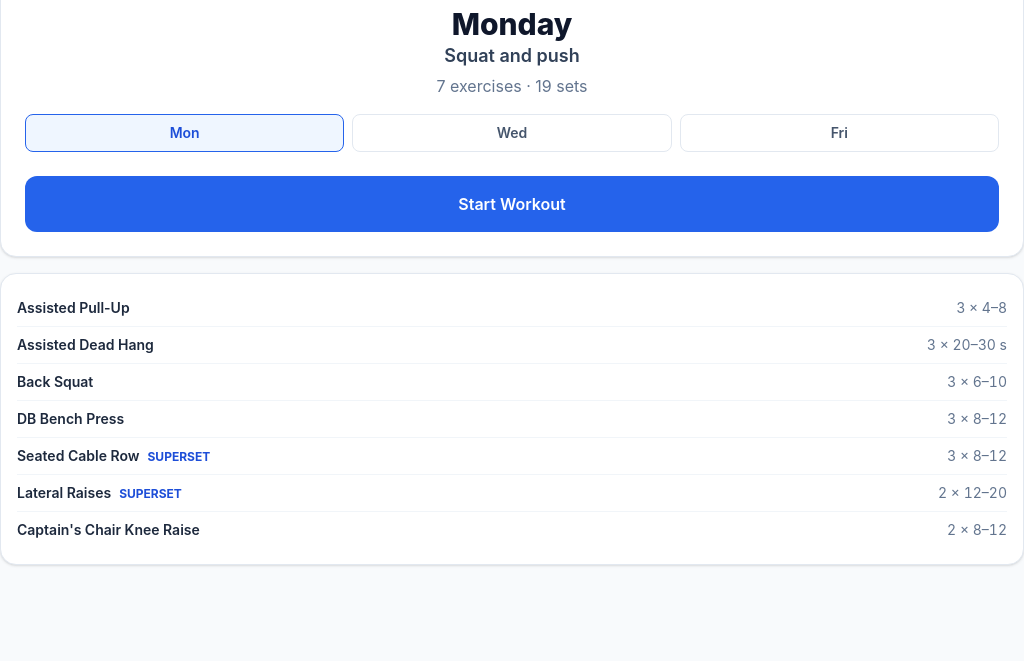
Strength in lb (S-006) › shows your kg weight in lb, and logs it back without changing it
This screenshot has width=1024, height=661.
Click the button "Start Workout" at (512, 204), box [25,176,999,232]
(page scrolled)
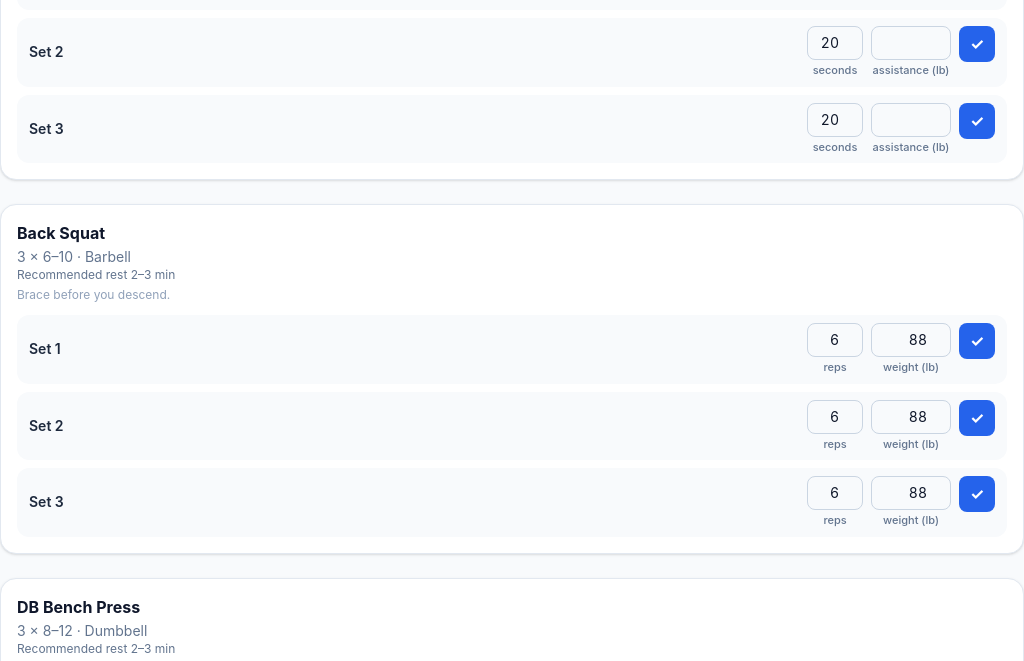
Check: the text "weight (lb)" is shown 3 times, box [883,359,939,376]; [883,436,939,452]; [883,512,939,528]
Check: the number field named "Set 1 weight" holds "88", box [871,323,951,357]
Click the button named "Complete set 1" at (977, 341), box [959,323,995,359]
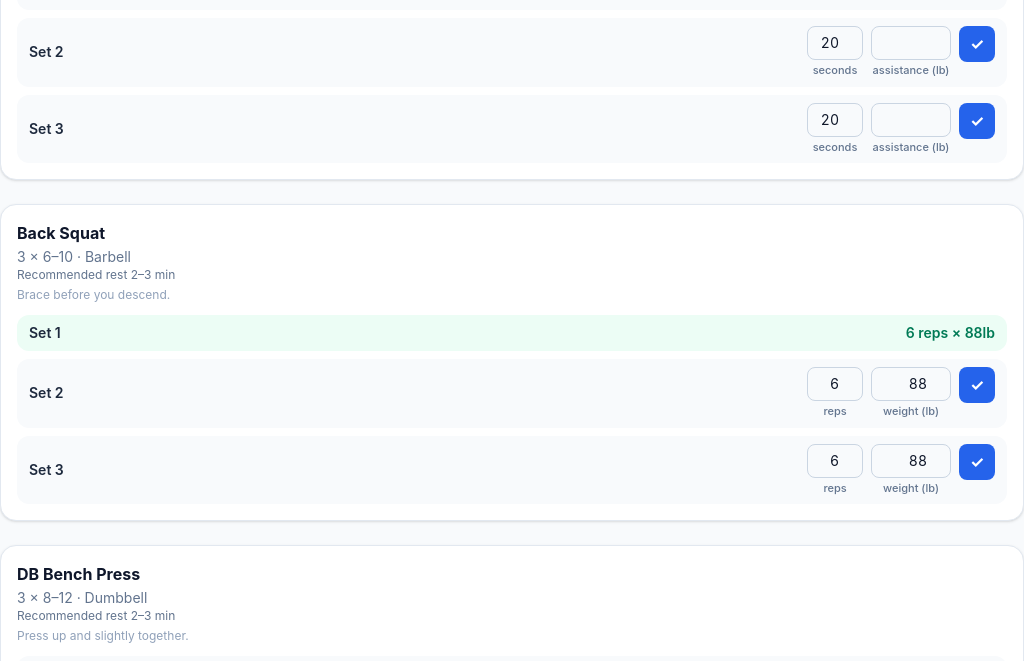
Check: the text "6 reps × 88lb" is shown, box [906,323,995,343]
